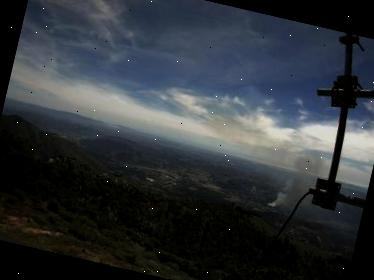smoke: (265, 144, 321, 216)
